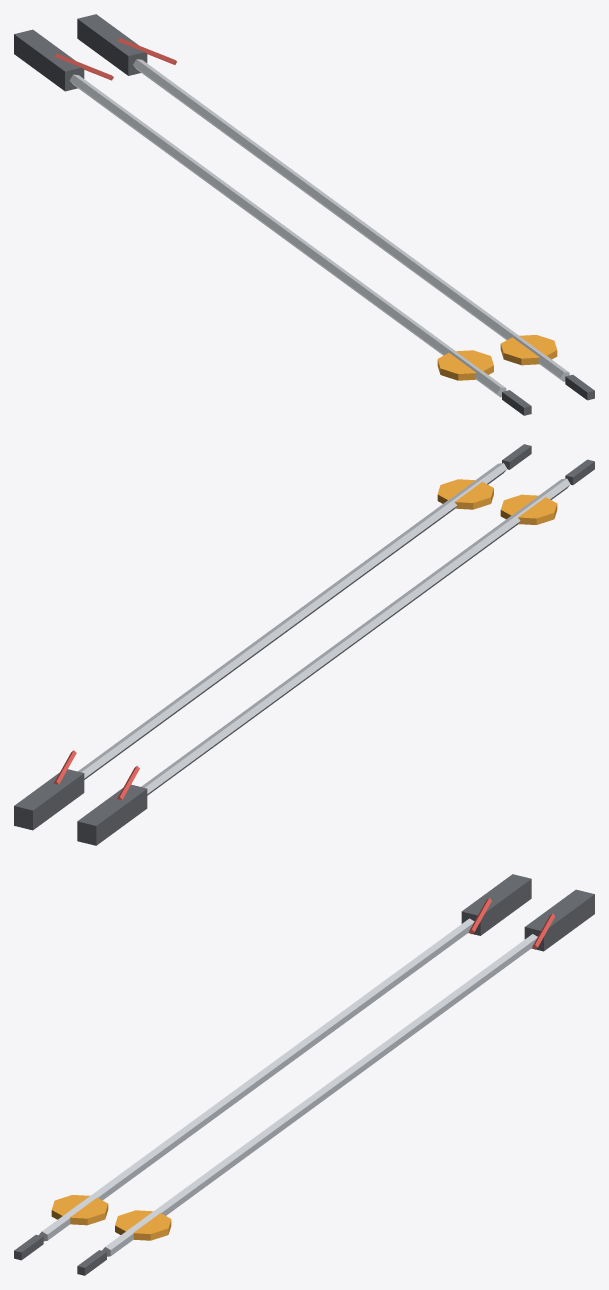
File: ski-resort-and-snow-park-ski-poles-c3119707__26011.glb
3 views of the same model, one above another, from view 1: azimuth 30°, elevation 25°; view 2: azimuth 150°, elevation 25°; view 3: azimuth 330°, elevation 25° (orthographic).
Visible parts, largest first — view 1: ski-poles; view 2: ski-poles; view 3: ski-poles.
Boxes of the visible parts, x1,y1,x2,y2 form: ski-poles: [14, 14, 594, 415]; ski-poles: [14, 444, 594, 845]; ski-poles: [14, 874, 594, 1275].
Bounding box in the file's own units: 0.18 × 0.034 × 1.38.
